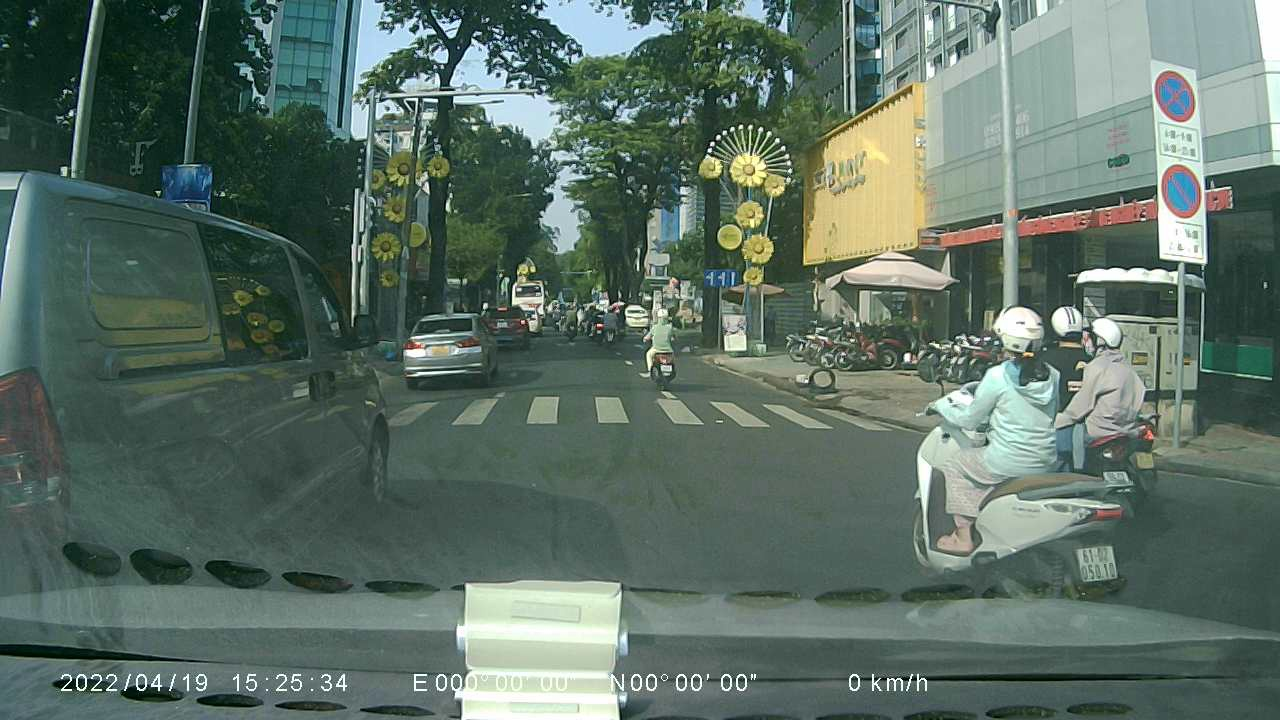Bien khac: (1151, 64, 1204, 124)
Cam do xe: (1158, 160, 1202, 219)
